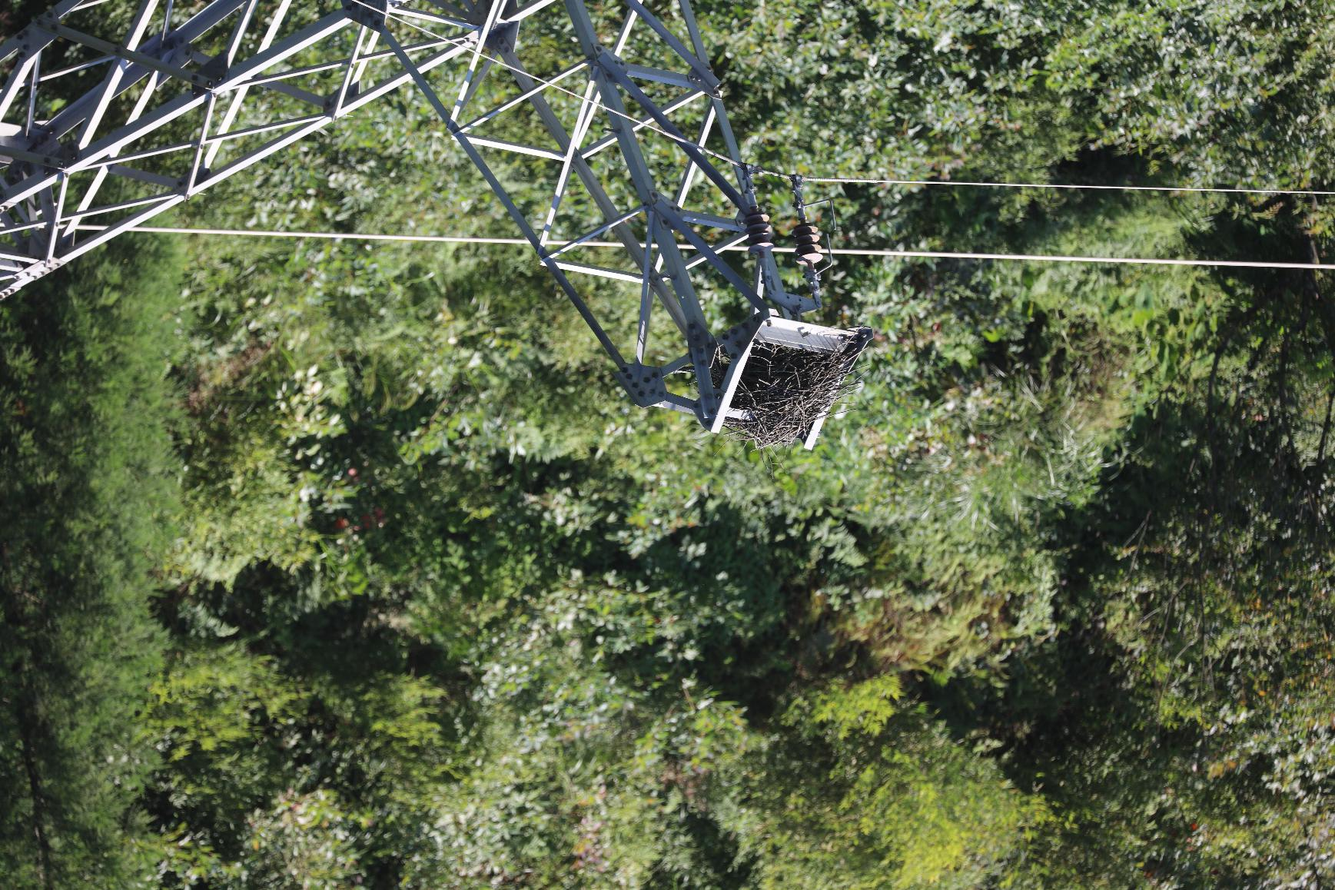nest: (725, 343, 855, 455)
